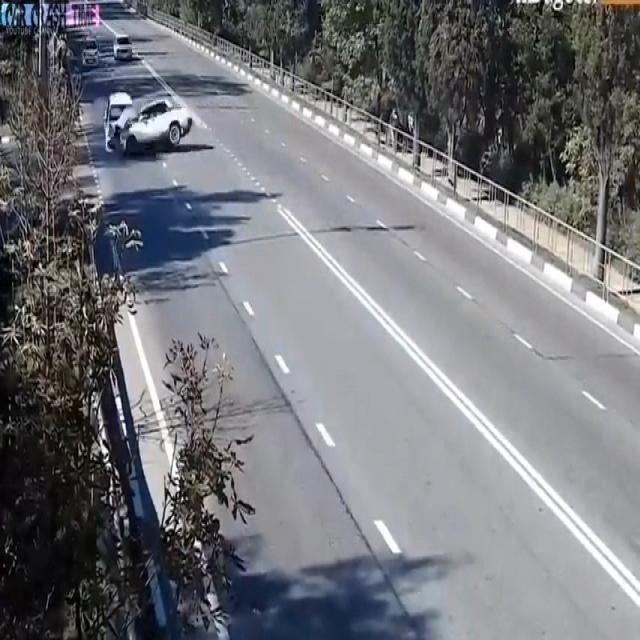Accident: (96, 92, 184, 156)
